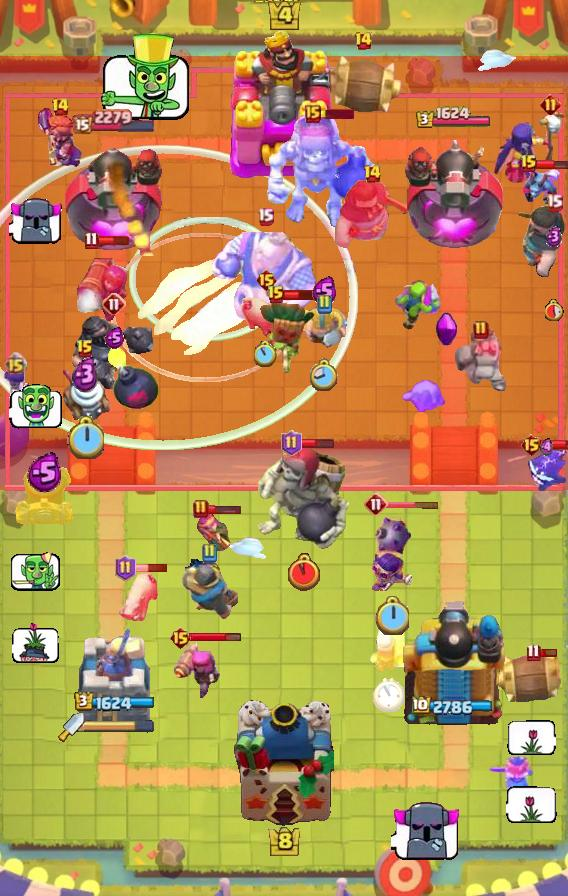archer: (197, 514, 233, 562)
bar: (189, 632, 242, 643), (386, 500, 440, 509), (283, 288, 320, 301), (207, 503, 242, 515), (300, 437, 335, 449), (96, 235, 130, 246), (318, 109, 354, 119), (536, 159, 568, 170), (133, 563, 168, 573), (540, 439, 568, 451), (538, 647, 558, 658)
bar-level: (364, 492, 388, 516), (102, 292, 126, 316), (169, 626, 192, 650), (520, 433, 543, 457), (255, 268, 278, 292), (115, 555, 136, 581), (281, 430, 302, 456), (4, 352, 27, 375), (540, 94, 561, 115), (363, 164, 382, 184), (51, 97, 70, 117), (354, 31, 373, 51), (76, 339, 94, 359), (267, 285, 285, 305), (520, 154, 538, 174), (257, 207, 274, 226), (546, 193, 563, 212), (201, 543, 217, 563), (193, 499, 209, 519), (473, 320, 489, 340), (316, 294, 332, 314), (305, 105, 321, 123), (526, 643, 541, 662), (84, 231, 99, 250)
barbarian-barrel: (321, 53, 405, 115), (494, 651, 568, 703)
bomb: (106, 343, 160, 411)
bomber-evolution: (368, 500, 416, 596)
cannoneer-tower: (397, 595, 509, 731), (400, 132, 507, 256), (64, 138, 165, 256)
clock: (67, 416, 104, 459), (375, 596, 409, 635), (288, 553, 320, 591), (373, 677, 404, 712), (310, 358, 339, 393), (254, 341, 277, 367), (545, 299, 564, 321)
dagger-duchess-tower: (75, 623, 153, 731)
dagger-duchess-tower-bar: (84, 720, 154, 734)
dart-goblin: (257, 298, 317, 374)
electro-spirit: (525, 449, 567, 495)
elite-barbarian: (300, 305, 348, 348)
elixir: (27, 452, 62, 493), (72, 356, 99, 392), (312, 276, 337, 306), (105, 327, 124, 349), (546, 226, 562, 247), (540, 438, 553, 457)
emote: (96, 32, 194, 126), (391, 800, 463, 864), (9, 197, 64, 246), (9, 384, 63, 429), (10, 548, 62, 593), (12, 621, 60, 664), (506, 786, 557, 823), (507, 720, 556, 755)
evolution-symbol: (434, 312, 460, 346)
firecracker: (173, 641, 221, 703), (367, 616, 409, 674)
firecracker-evolution: (73, 244, 131, 324)
goblin: (393, 280, 445, 330)
golemite: (452, 329, 510, 393)
hog: (240, 291, 292, 341), (116, 569, 160, 625)
ice-spirit-evolution: (400, 380, 450, 418)
king-tower: (228, 29, 340, 181), (234, 700, 334, 826)
knight: (180, 559, 238, 620)
minion: (522, 164, 564, 204)
mortar: (13, 461, 75, 529)
skeleton-evolution: (0, 364, 32, 404)
tower-bar: (72, 108, 157, 134), (415, 106, 492, 130), (412, 696, 495, 717), (74, 691, 155, 712)
valkyrie: (487, 755, 535, 809)
valkyrie-evolution: (36, 108, 84, 168)
witch: (492, 110, 568, 184)
zappy: (58, 360, 112, 420)
